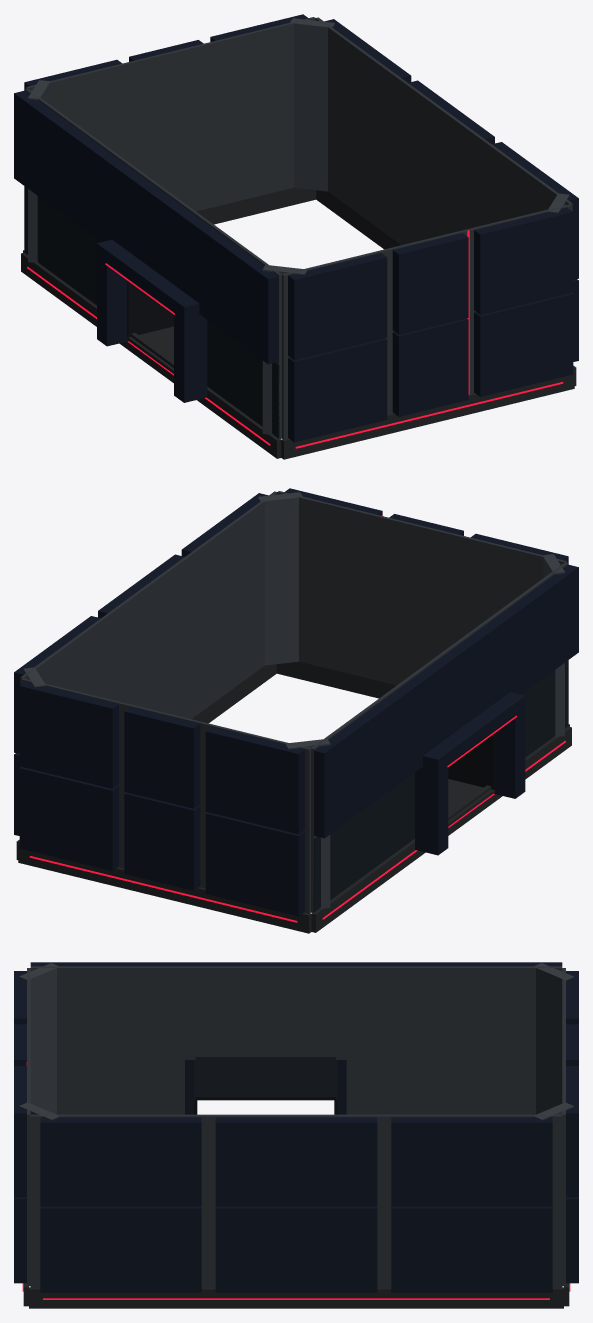
3 renders of one model, top to bottom at view 1: azimuth 30°, elevation 25°; view 2: azimuth 150°, elevation 25°; view 3: azimuth 270°, elevation 25°, orthographic. The views are drawn at different scales.
Visible parts, largest first — view 1: hull, panel, graphite, facade, fin, crimson, dark; view 2: hull, panel, graphite, facade, fin, dark, crimson; view 3: hull, panel, graphite, fin, dark, crimson.
Boxes of the visible parts, x1,y1,x2,y2 form: hull: (14, 14, 578, 442); panel: (25, 17, 572, 439); graphite: (21, 187, 576, 459); facade: (24, 186, 279, 437); fin: (28, 18, 569, 434); crimson: (27, 230, 563, 448); dark: (127, 278, 173, 337); hull: (14, 488, 578, 916); panel: (20, 491, 567, 913); graphite: (16, 661, 571, 933); facade: (313, 660, 568, 911); fin: (23, 492, 564, 908); dark: (448, 730, 494, 789); crimson: (29, 515, 565, 922); hull: (14, 962, 578, 1292); panel: (27, 966, 565, 1287); graphite: (23, 1283, 569, 1308); fin: (19, 963, 573, 1120); dark: (194, 1057, 337, 1114); crimson: (22, 1062, 570, 1299).
Bounding box in the file's own units: 22.8 × 12 × 32.2.
